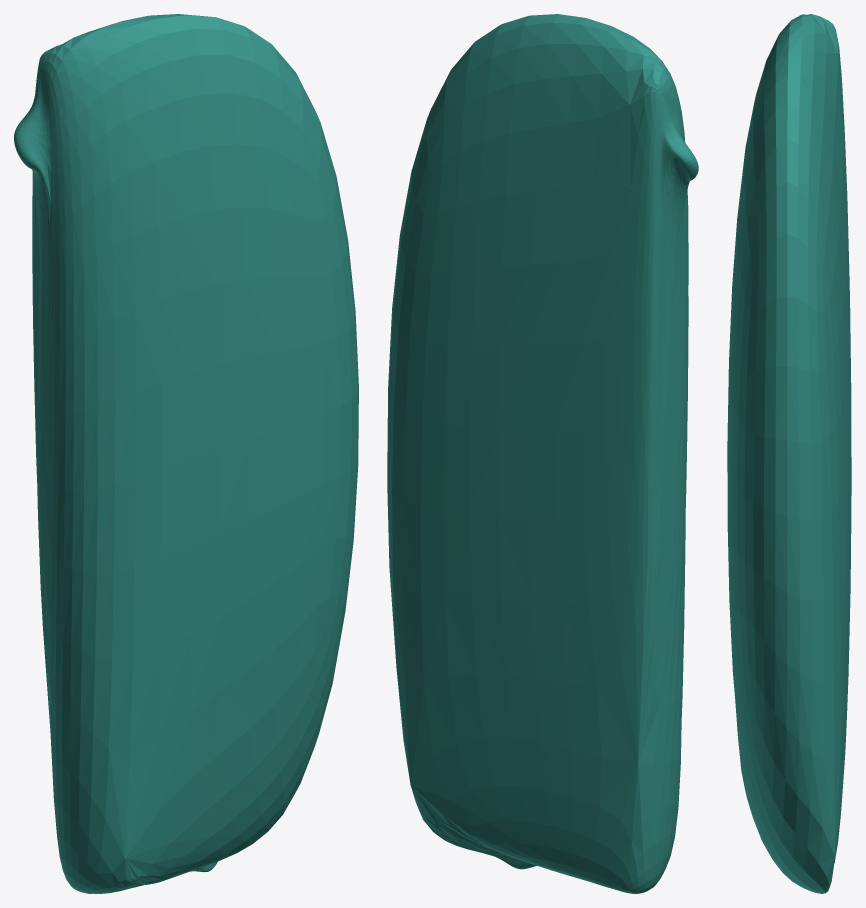
The picture shows the model from 3 angles, left to right: view 1: azimuth 30°, elevation 25°; view 2: azimuth 150°, elevation 25°; view 3: azimuth 270°, elevation 25°; orthographic projection. The views are drawn at different scales.
Parts seen in each view (by area): view 1: 281_Cube.1149; view 2: 281_Cube.1149; view 3: 281_Cube.1149.
Boxes of the visible parts, box(x1,y1,x2,y2) form: 281_Cube.1149: box(14, 14, 358, 893); 281_Cube.1149: box(387, 14, 698, 893); 281_Cube.1149: box(727, 14, 851, 893).
Bounding box in the file's own units: 4.53 × 11.67 × 1.6.
